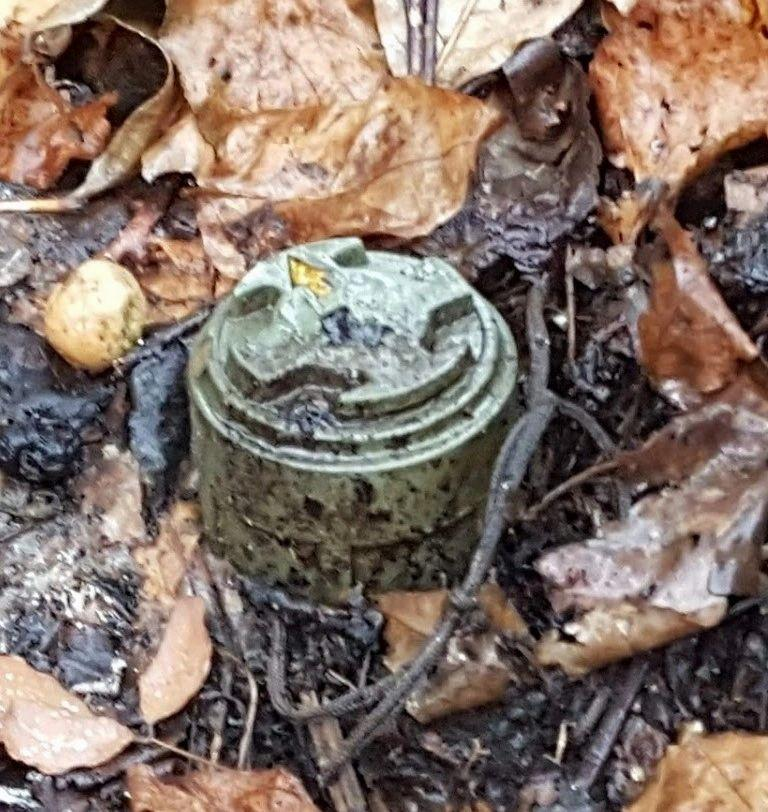pmn: (178, 230, 538, 613)
